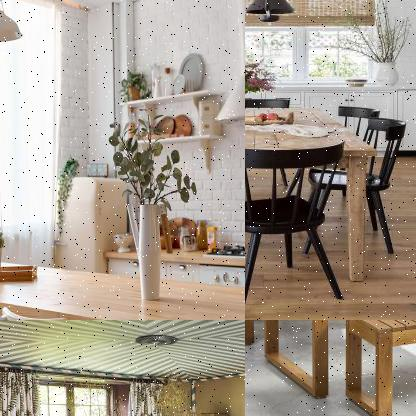table: (245, 102, 390, 290), (0, 258, 244, 319), (255, 320, 415, 403)
